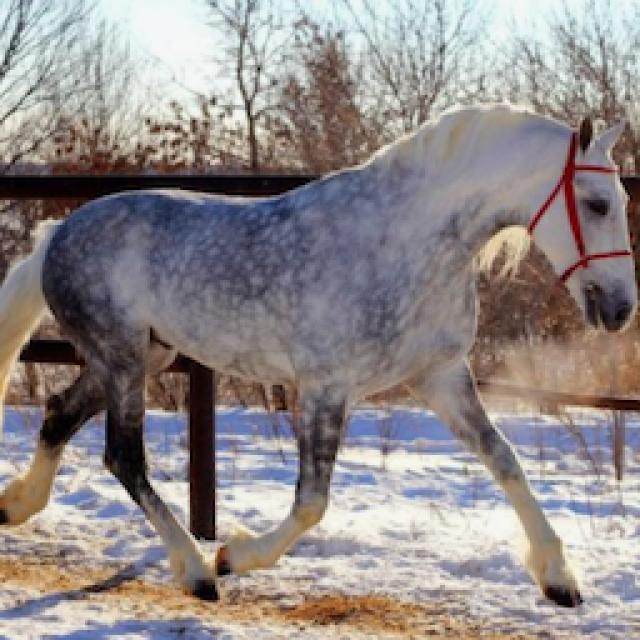Horse: (0, 98, 638, 612)
